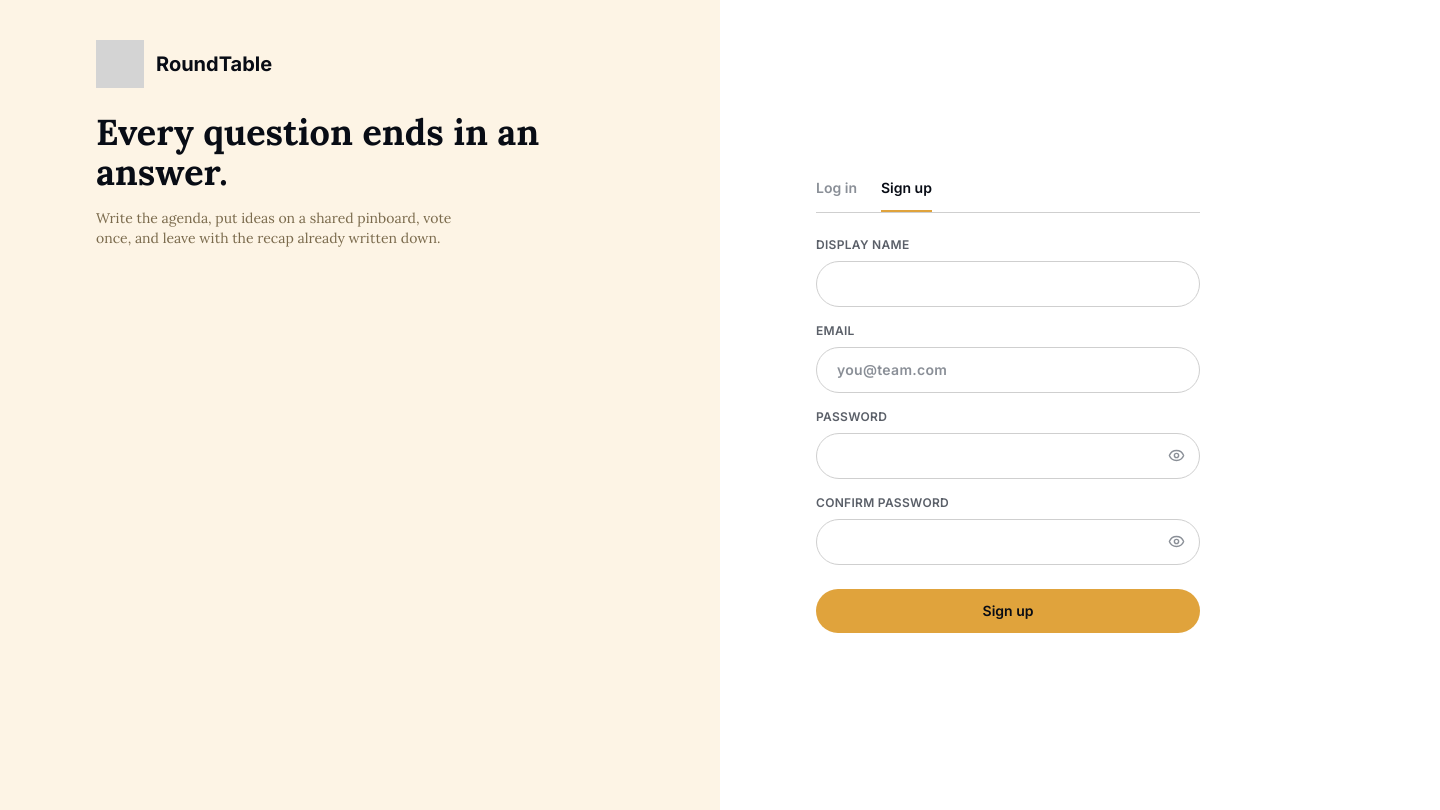
Scenario: SignupPage › shows a validation error without hitting the network for a password missing complexity
In the field labelled "Display name": (1008,284) [816,260,1200,306], type "Alice"
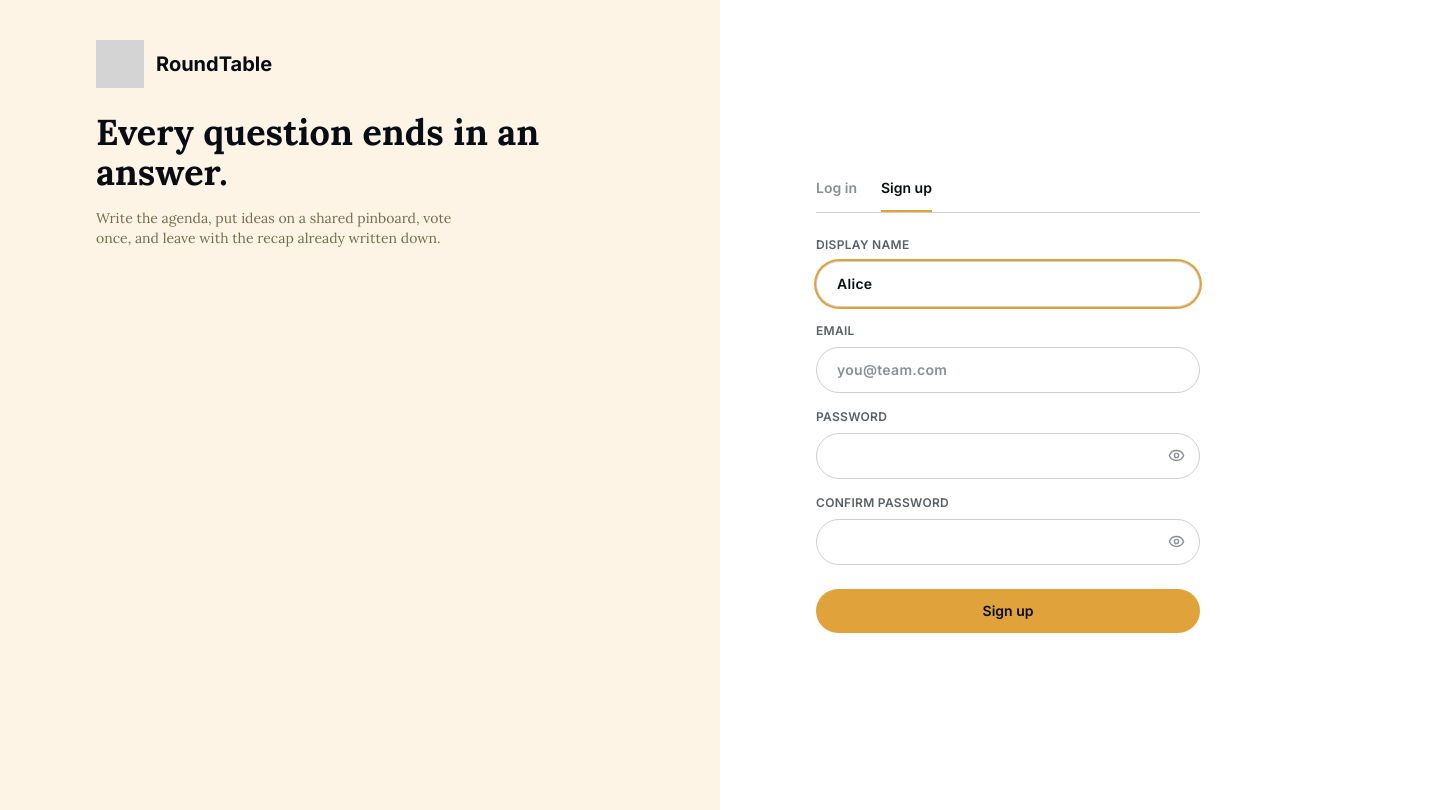
In the field labelled "Email": (1008,370) [816,346,1200,392], type "alice@example.com"
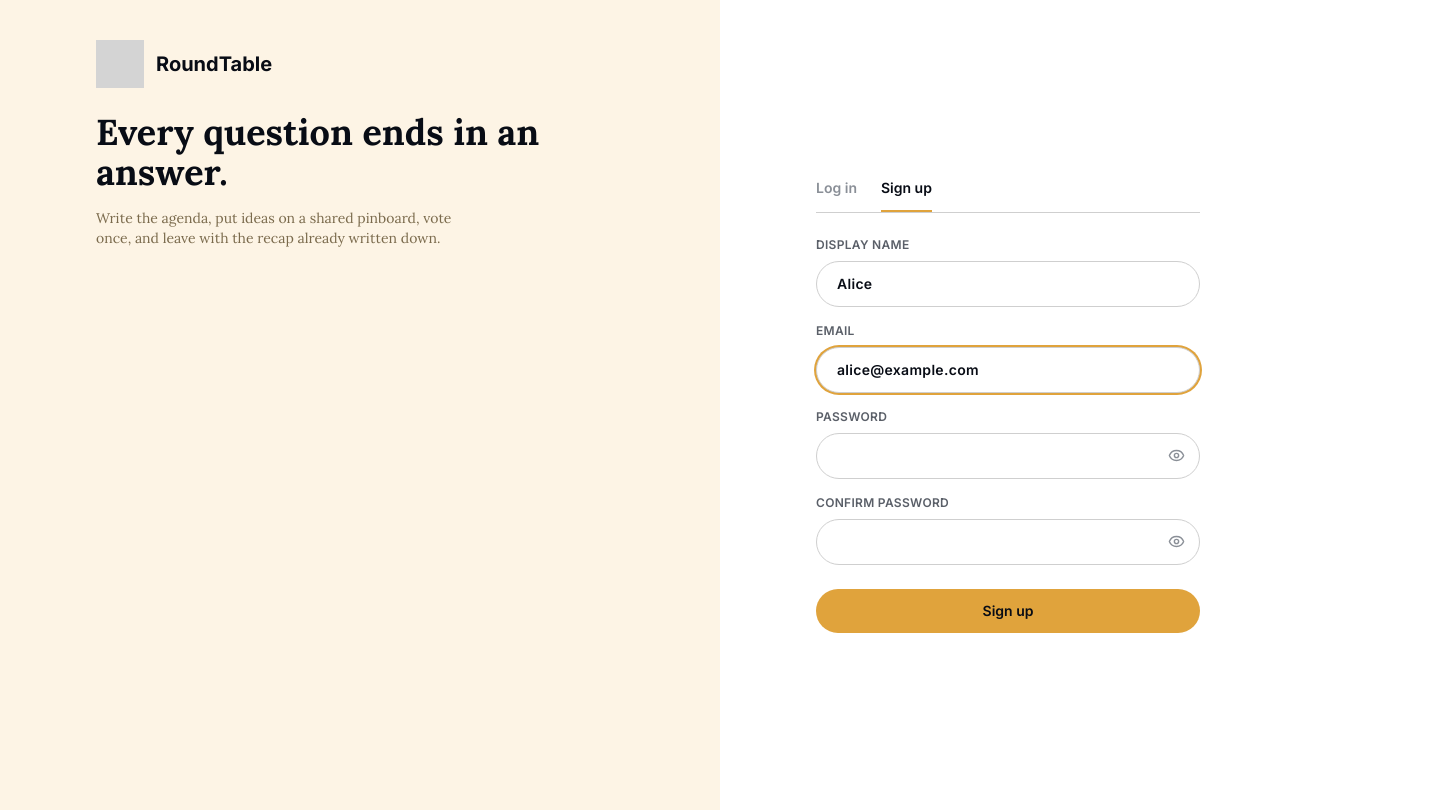
# Long enough, but no uppercase/number/special character.
In the password field labelled "Password": (1008,456) [816,432,1200,478], type "longenough"
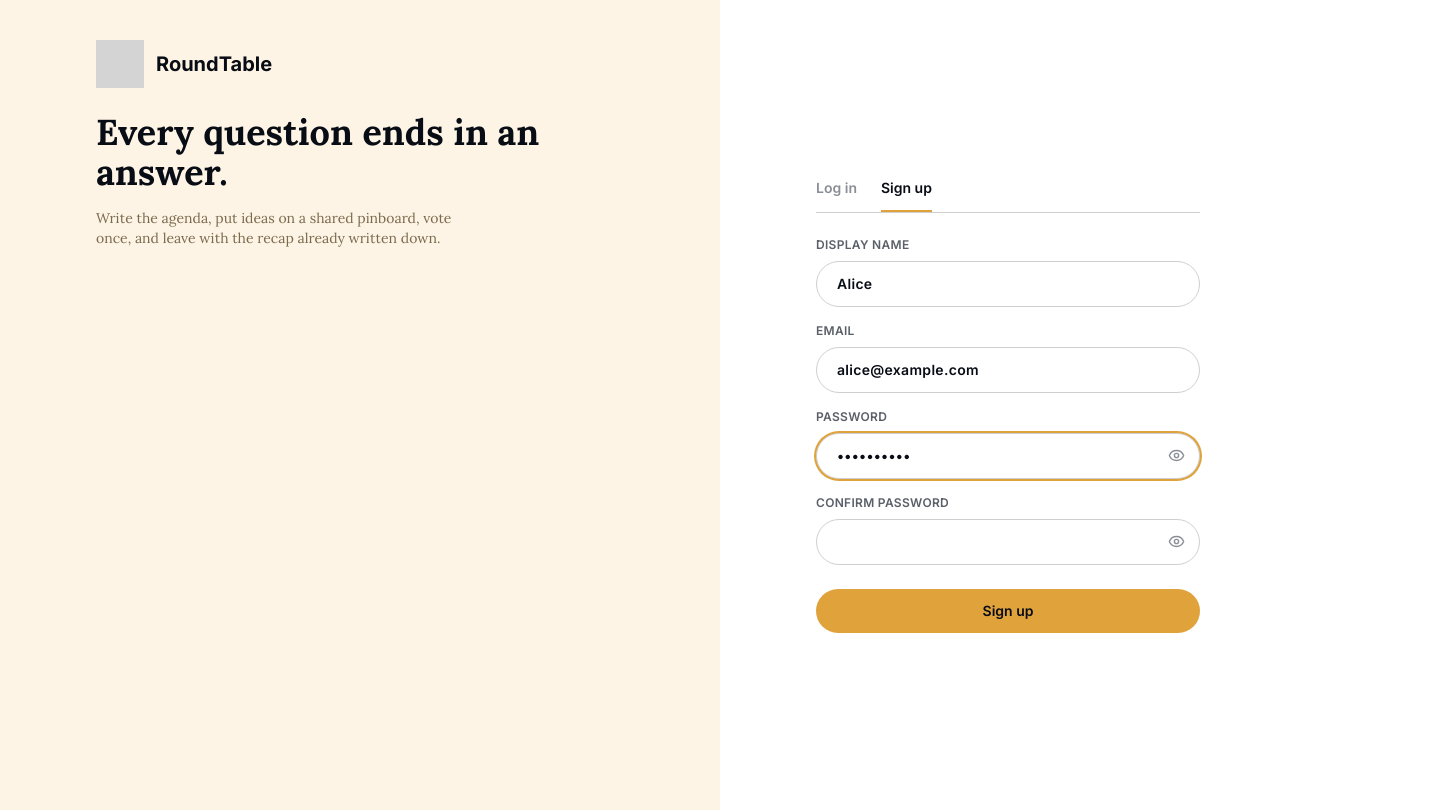
In the password field labelled "Confirm password": (1008,542) [816,518,1200,564], type "longenough"
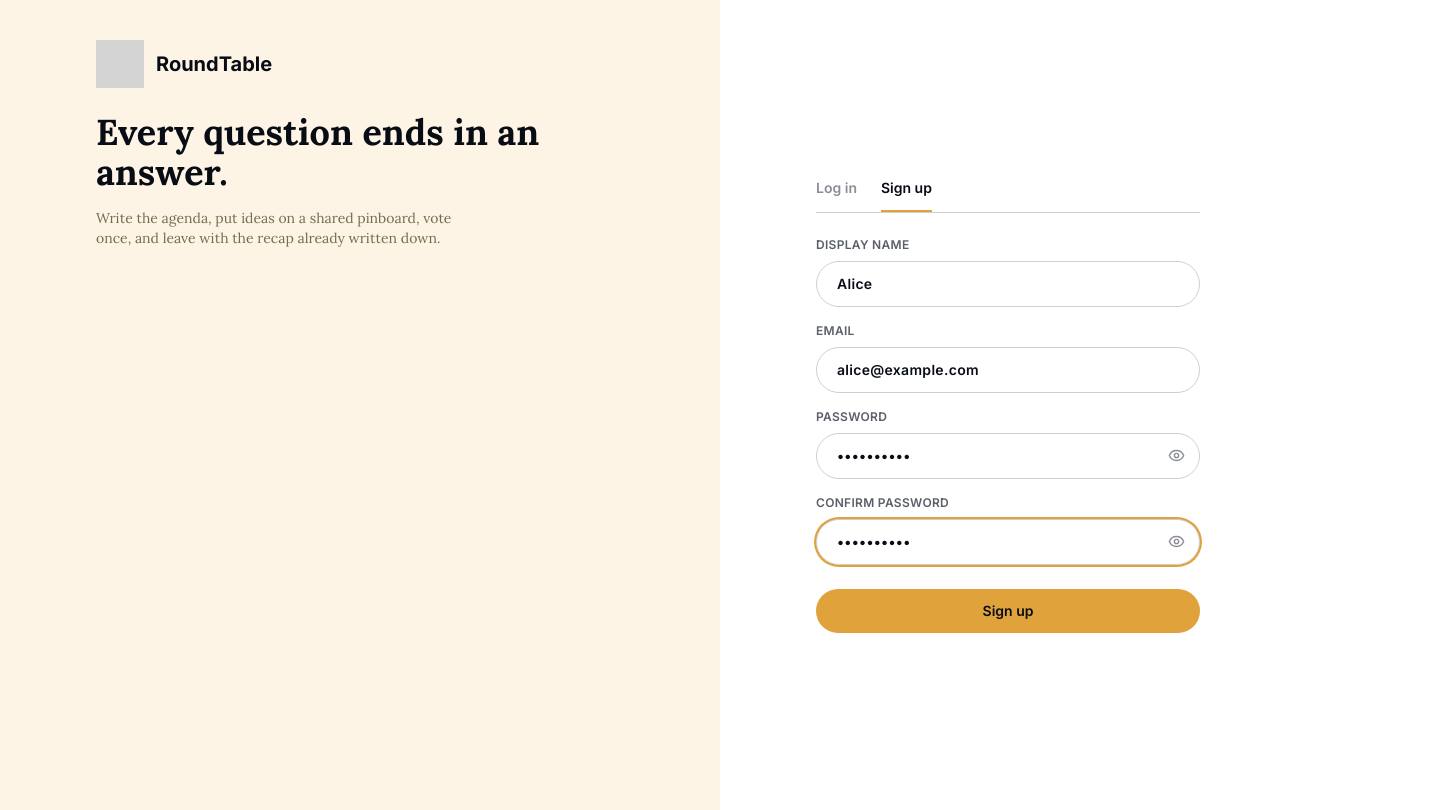
Click the button "Sign up": (1008,610) [816,588,1200,632]
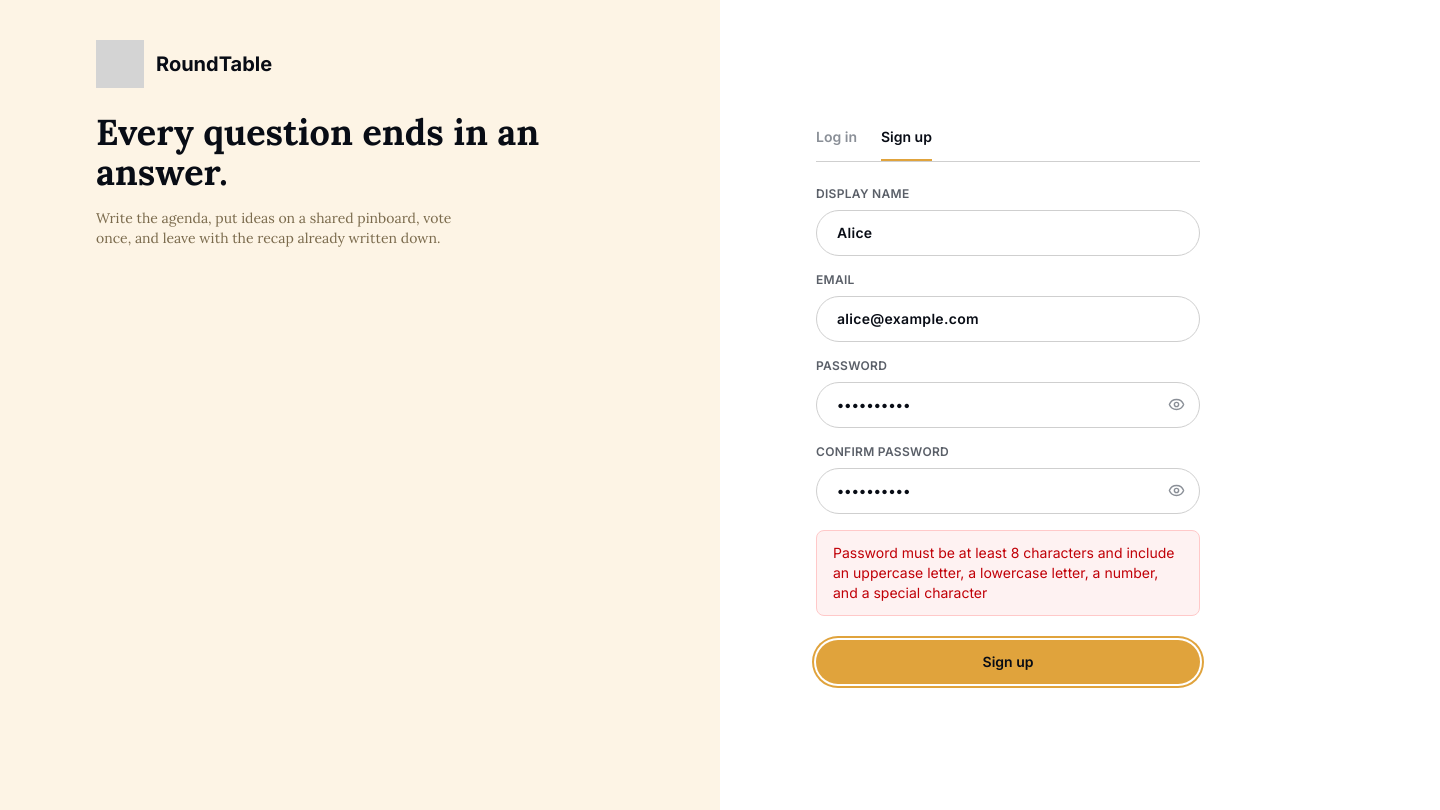
expect the message shows "uppercase": met, box [833,544,1174,600]
